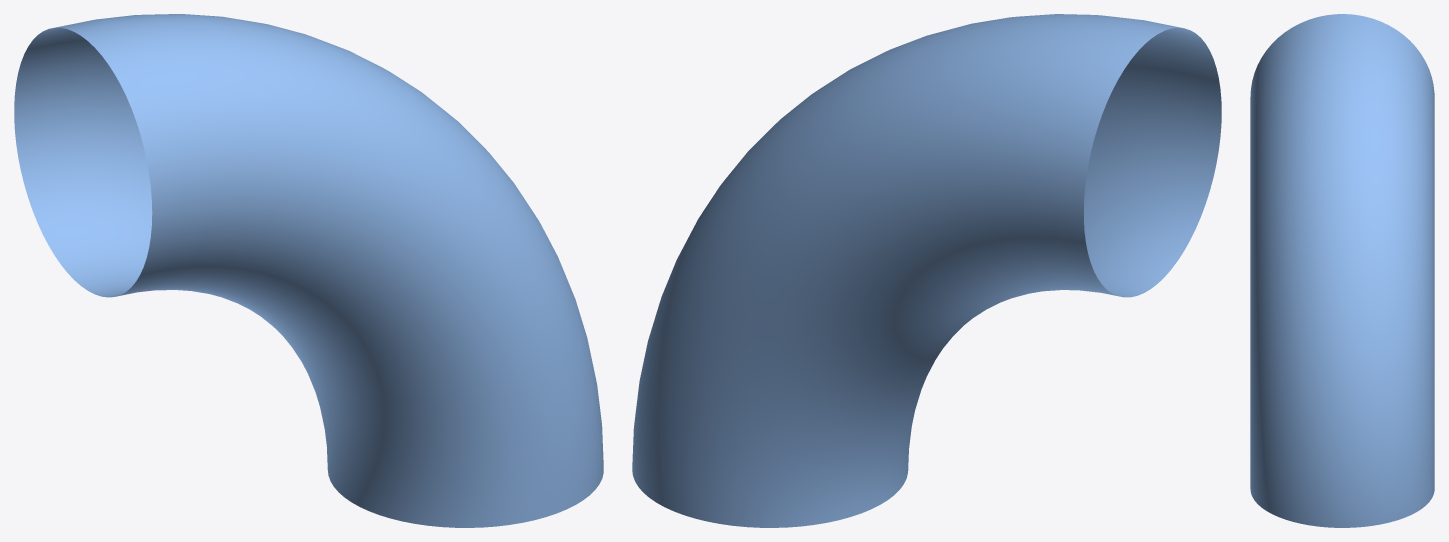
File: sweep-pipe.glb
3 renders of one model, left to right at view 1: azimuth 30°, elevation 25°; view 2: azimuth 150°, elevation 25°; view 3: azimuth 270°, elevation 25°, orthographic. The views are drawn at different scales.
Visible parts, largest first — view 1: SHELL; view 2: SHELL; view 3: SHELL.
Boxes of the visible parts, x1,y1,x2,y2 form: SHELL: [14, 14, 603, 527]; SHELL: [632, 14, 1221, 527]; SHELL: [1250, 14, 1434, 527].
Size of the model in its own units: 21 by 21 by 9.99.
